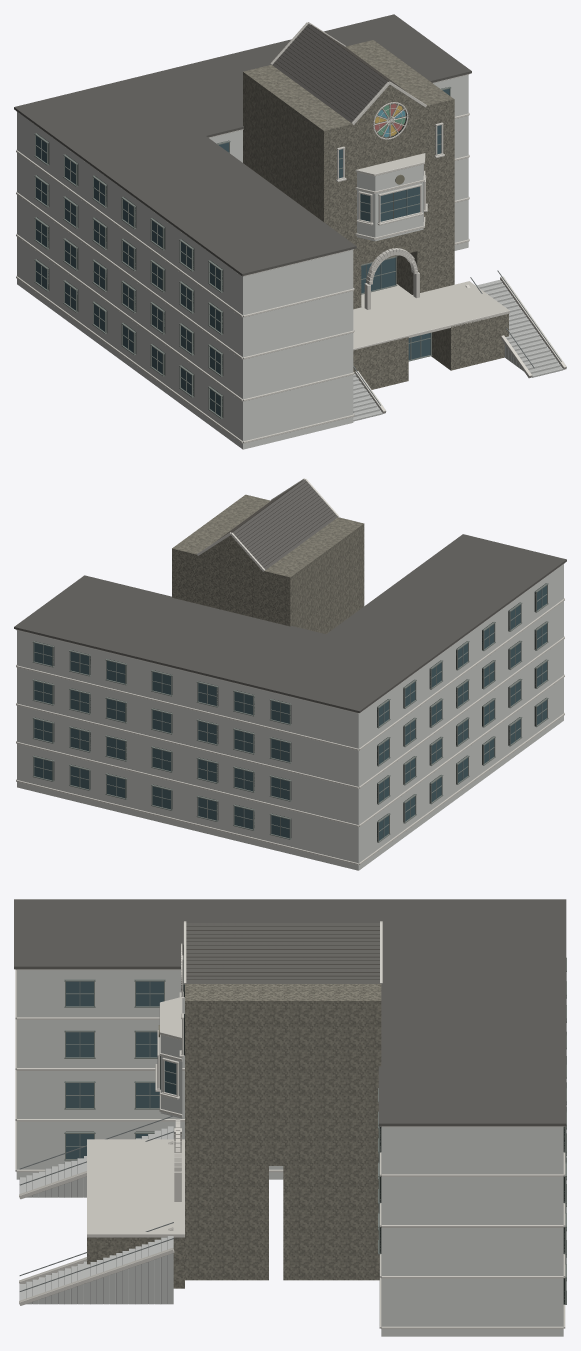
3 renders of one model, top to bottom at view 1: azimuth 30°, elevation 25°; view 2: azimuth 150°, elevation 25°; view 3: azimuth 270°, elevation 25°, orthographic. The views are drawn at different scales.
Parts seen in each view (by area): view 1: estimated-single-L-wing-shell__pale, estimated-single-L-wing-roof__roof, central-tower-upper__stone, upper-entry-terrace__trim, estimated-outer-wing-windows__glass, estimated-outer-wing-windows__frame, central-stone-pediment-slopes__roof, lower-entry-retaining-piers__stone, estimated-wing-floor-bands__trim, paired-side-entry-stairs__concrete, central-entry-side-piers__stone, projecting-stone-glazed-oriel-core__pale (+9 smaller); view 2: estimated-single-L-wing-shell__pale, estimated-single-L-wing-roof__roof, central-tower-upper__stone, estimated-rear-cross-windows__glass, estimated-wing-floor-bands__trim, estimated-rear-cross-windows__frame, estimated-outer-wing-windows__glass, estimated-outer-wing-windows__frame, central-stone-pediment-slopes__roof, central-stone-pediment-roof-courses__roofline, estimated-outer-wing-windows__dark, estimated-rear-cross-windows__dark (+2 smaller); view 3: estimated-single-L-wing-roof__roof, estimated-single-L-wing-shell__pale, central-tower-upper__stone, central-stone-pediment-slopes__roof, estimated-central-back-core__stone, central-entry-side-piers__stone, upper-entry-terrace__trim, paired-side-entry-stairs__concrete, estimated-wing-floor-bands__trim, visible-inner-wing-windows__glass, central-stone-pediment-roof-courses__roofline, paired-side-entry-stairs-cheeks__trim (+6 smaller).
Boxes of the visible parts, box(x1,y1,x2,y2) form: estimated-single-L-wing-shell__pale: box(17, 75, 468, 449); estimated-single-L-wing-roof__roof: box(14, 14, 471, 276); central-tower-upper__stone: box(243, 40, 454, 260); upper-entry-terrace__trim: box(353, 281, 509, 350); estimated-outer-wing-windows__glass: box(36, 136, 220, 416); estimated-outer-wing-windows__frame: box(34, 133, 222, 418); central-stone-pediment-slopes__roof: box(272, 24, 387, 123); lower-entry-retaining-piers__stone: box(353, 313, 508, 389); estimated-wing-floor-bands__trim: box(16, 74, 469, 443); paired-side-entry-stairs__concrete: box(353, 280, 563, 421); central-entry-side-piers__stone: box(353, 236, 454, 309); projecting-stone-glazed-oriel-core__pale: box(357, 164, 423, 241); estimated-single-L-wing-shell__pale: box(17, 564, 563, 870); estimated-single-L-wing-roof__roof: box(14, 534, 566, 712); central-tower-upper__stone: box(172, 494, 364, 633); estimated-rear-cross-windows__glass: box(34, 643, 289, 838); estimated-wing-floor-bands__trim: box(16, 563, 564, 864); estimated-rear-cross-windows__frame: box(32, 641, 291, 839); estimated-outer-wing-windows__glass: box(379, 585, 546, 840); estimated-outer-wing-windows__frame: box(377, 583, 548, 842); central-stone-pediment-slopes__roof: box(232, 480, 337, 569); central-stone-pediment-roof-courses__roofline: box(214, 481, 335, 567); estimated-outer-wing-windows__dark: box(377, 583, 545, 841); estimated-rear-cross-windows__dark: box(35, 641, 291, 837); estimated-single-L-wing-roof__roof: box(14, 899, 566, 1126); estimated-single-L-wing-shell__pale: box(16, 970, 563, 1336); central-tower-upper__stone: box(185, 984, 381, 1165); central-stone-pediment-slopes__roof: box(186, 923, 379, 983); estimated-central-back-core__stone: box(283, 1166, 379, 1280); central-entry-side-piers__stone: box(185, 1166, 268, 1280); upper-entry-terrace__trim: box(87, 1139, 184, 1237); paired-side-entry-stairs__concrete: box(19, 1126, 173, 1304); estimated-wing-floor-bands__trim: box(15, 969, 565, 1329); visible-inner-wing-windows__glass: box(66, 981, 163, 1158); central-stone-pediment-roof-courses__roofline: box(186, 926, 379, 979); paired-side-entry-stairs-cheeks__trim: box(19, 1141, 174, 1305).
Bounding box in the file's own units: 37.95 × 25.18 × 39.45.
Materials: 15 (1 with a texture image).
